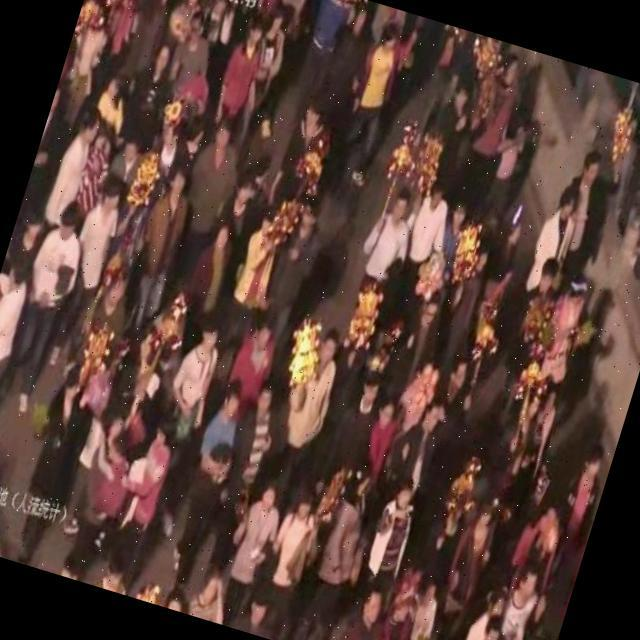person: (132, 318, 238, 536), (156, 373, 256, 600), (158, 373, 262, 591), (34, 168, 136, 388), (0, 361, 98, 568), (0, 200, 92, 418), (288, 451, 391, 640), (46, 400, 148, 586), (198, 374, 290, 574), (292, 0, 394, 176), (96, 408, 184, 596), (262, 322, 354, 496), (442, 43, 528, 226), (329, 21, 416, 198), (119, 162, 204, 331), (208, 472, 294, 633), (242, 484, 330, 640), (172, 110, 258, 264), (491, 378, 572, 522), (217, 208, 294, 357), (264, 96, 346, 234), (427, 494, 505, 639), (388, 168, 468, 306), (547, 149, 626, 287), (342, 177, 423, 310), (538, 440, 614, 580), (230, 0, 301, 146), (354, 468, 432, 594), (11, 89, 74, 242), (208, 13, 280, 144), (416, 350, 488, 480), (417, 192, 489, 320), (173, 212, 246, 334), (52, 2, 120, 126), (158, 8, 230, 124), (379, 396, 451, 506), (117, 30, 185, 144), (0, 244, 43, 424), (326, 363, 392, 477), (420, 70, 486, 180), (524, 180, 590, 289), (46, 102, 110, 214), (478, 116, 542, 224), (602, 88, 640, 266), (479, 562, 562, 640), (226, 304, 288, 398), (116, 0, 181, 84), (2, 197, 55, 287), (359, 389, 407, 476), (327, 582, 396, 640), (366, 577, 425, 640), (395, 576, 452, 640), (220, 166, 262, 232), (444, 609, 516, 640), (56, 12, 84, 88)
